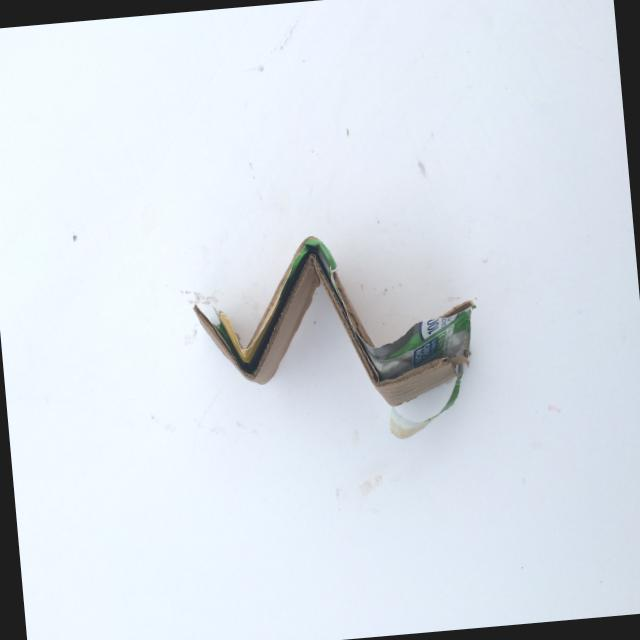Cardboard: (180, 187, 499, 489)
